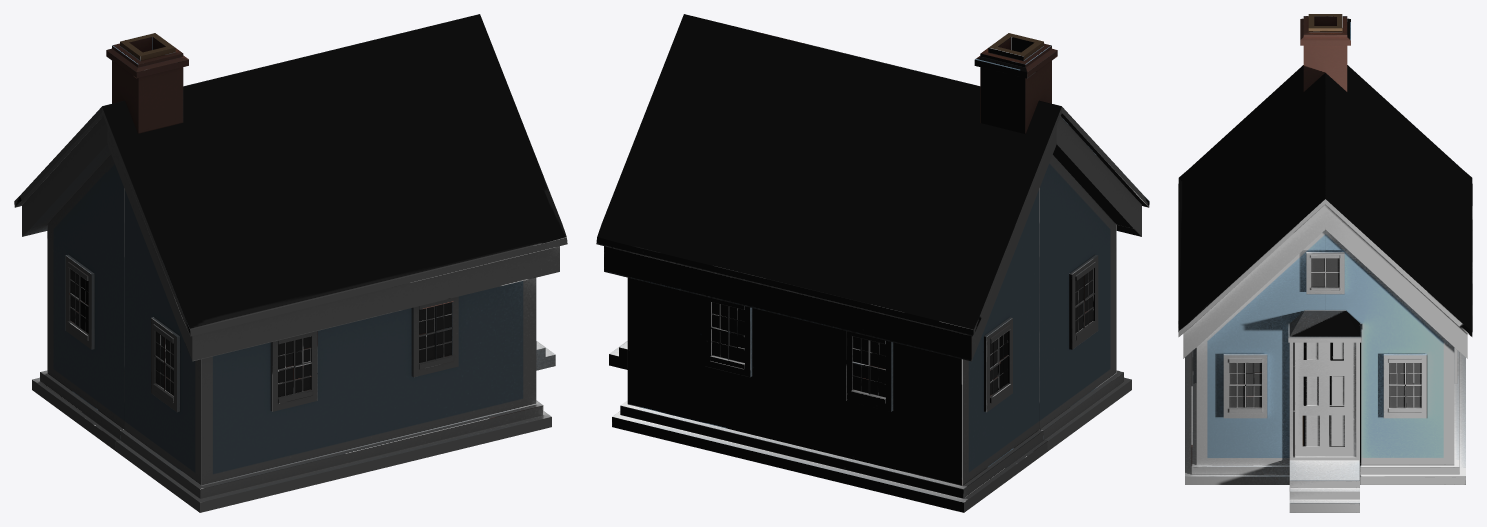
Rendered from fallenstar.obj.
3 views of the same model, side by side, from view 1: azimuth 30°, elevation 25°; view 2: azimuth 150°, elevation 25°; view 3: azimuth 270°, elevation 25° (orthographic). The views are drawn at different scales.
Parts seen in each view (by area): view 1: house.001_house-mesh.001_Door-top.002, house.001_house-mesh.001_House-base.001, house.001_house-mesh.001_White.002, house.001_house-mesh.001_Window-outer.001, house.001_house-mesh.001_Chimney-base.001, house.001_house-mesh.001_Roof-base.002, house.001_house-mesh.001_Window-inner.001, house.001_house-mesh.001_Chimney-top.001; view 2: house.001_house-mesh.001_Roof-base.002, house.001_house-mesh.001_House-base.001, house.001_house-mesh.001_Window-outer.001, house.001_house-mesh.001_White.002, house.001_house-mesh.001_Chimney-base.001, house.001_house-mesh.001_Window-inner.001, house.001_house-mesh.001_Chimney-top.001; view 3: house.001_house-mesh.001_White.002, house.001_house-mesh.001_Door-top.002, house.001_house-mesh.001_House-base.001, house.001_house-mesh.001_Roof-base.002, house.001_house-mesh.001_Window-outer.001, house.001_house-mesh.001_Window-inner.001, house.001_house-mesh.001_Chimney-base.001, house.001_house-mesh.001_Chimney-top.001.
Part boxes in pixels (bbox=[...]): house.001_house-mesh.001_Door-top.002: bbox=[102, 14, 566, 329]; house.001_house-mesh.001_House-base.001: bbox=[53, 14, 523, 474]; house.001_house-mesh.001_White.002: bbox=[102, 107, 567, 512]; house.001_house-mesh.001_Window-outer.001: bbox=[14, 107, 458, 450]; house.001_house-mesh.001_Chimney-base.001: bbox=[106, 37, 188, 133]; house.001_house-mesh.001_Roof-base.002: bbox=[278, 302, 451, 397]; house.001_house-mesh.001_Window-inner.001: bbox=[70, 269, 173, 395]; house.001_house-mesh.001_Chimney-top.001: bbox=[120, 33, 175, 61]; house.001_house-mesh.001_Roof-base.002: bbox=[597, 14, 1061, 329]; house.001_house-mesh.001_House-base.001: bbox=[640, 164, 1110, 474]; house.001_house-mesh.001_Window-outer.001: bbox=[596, 107, 1098, 512]; house.001_house-mesh.001_White.002: bbox=[609, 107, 1149, 450]; house.001_house-mesh.001_Chimney-base.001: bbox=[974, 37, 1057, 133]; house.001_house-mesh.001_Window-inner.001: bbox=[712, 269, 1093, 397]; house.001_house-mesh.001_Chimney-top.001: bbox=[988, 33, 1043, 61]; house.001_house-mesh.001_White.002: bbox=[1178, 199, 1471, 512]; house.001_house-mesh.001_Door-top.002: bbox=[1178, 65, 1359, 336]; house.001_house-mesh.001_House-base.001: bbox=[1207, 234, 1443, 457]; house.001_house-mesh.001_Roof-base.002: bbox=[1325, 65, 1472, 330]; house.001_house-mesh.001_Window-outer.001: bbox=[1192, 252, 1472, 467]; house.001_house-mesh.001_Window-inner.001: bbox=[1229, 258, 1421, 407]; house.001_house-mesh.001_Chimney-base.001: bbox=[1300, 16, 1350, 91]; house.001_house-mesh.001_Chimney-top.001: bbox=[1308, 14, 1342, 32].
Bounding box in the file's own units: 3.24 × 2.86 × 2.29.
